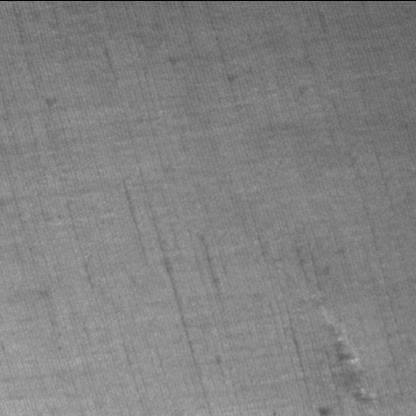thread error: (306, 292, 381, 415)
